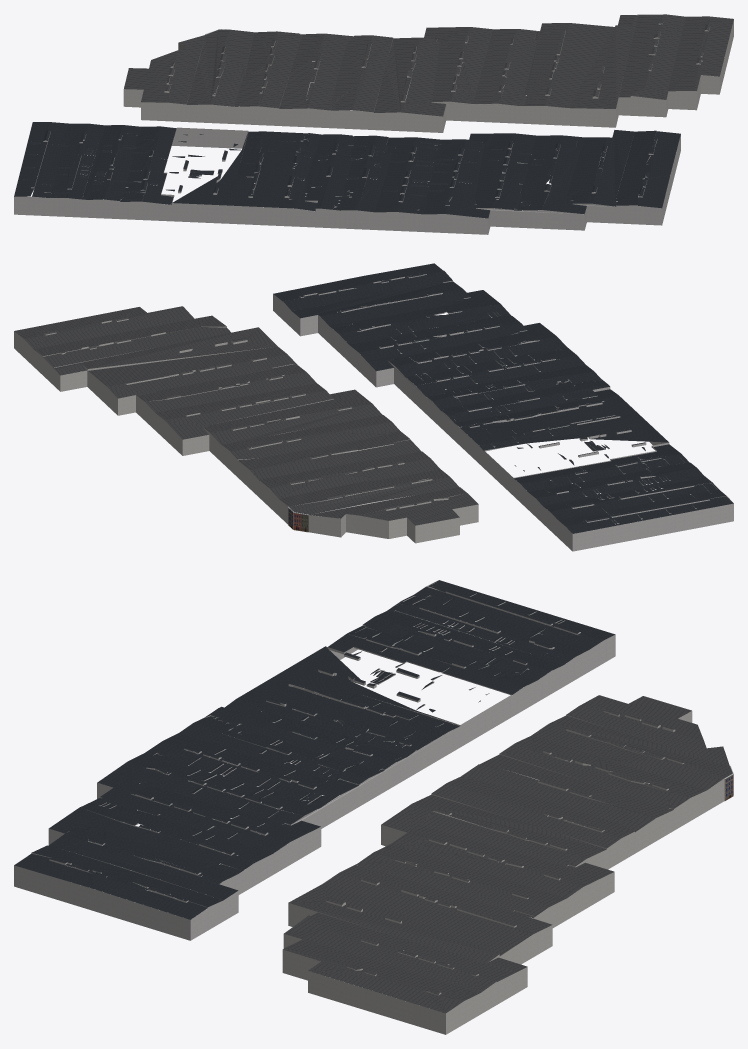
3 views of the same model, one above another, from view 1: azimuth 30°, elevation 25°; view 2: azimuth 150°, elevation 25°; view 3: azimuth 270°, elevation 25° (orthographic). The views are drawn at different scales.
Visible parts, largest first — view 1: bldg_6004170020_roof, bldg_6008399650_roof, bldg_6004170020, bldg_6008399650; view 2: bldg_6004170020_roof, bldg_6008399650_roof, bldg_6004170020, bldg_6008399650; view 3: bldg_6004170020_roof, bldg_6008399650_roof, bldg_6004170020, bldg_6008399650.
Boxes of the visible parts, left/top/right/bottom form: bldg_6004170020_roof: left=14, top=122, right=680, bottom=218; bldg_6008399650_roof: left=124, top=14, right=733, bottom=116; bldg_6004170020: left=14, top=127, right=680, bottom=234; bldg_6008399650: left=123, top=15, right=733, bottom=132; bldg_6004170020_roof: left=273, top=263, right=733, bottom=533; bldg_6008399650_roof: left=14, top=306, right=478, bottom=525; bldg_6004170020: left=273, top=274, right=733, bottom=551; bldg_6008399650: left=14, top=319, right=478, bottom=543; bldg_6004170020_roof: left=14, top=580, right=615, bottom=919; bldg_6008399650_roof: left=283, top=695, right=732, bottom=1013; bldg_6004170020: left=14, top=582, right=615, bottom=940; bldg_6008399650: left=282, top=711, right=724, bottom=1034.
Size of the model in its own units: 505 by 14.18 by 355.
Materials: 7 (5 with a texture image).
